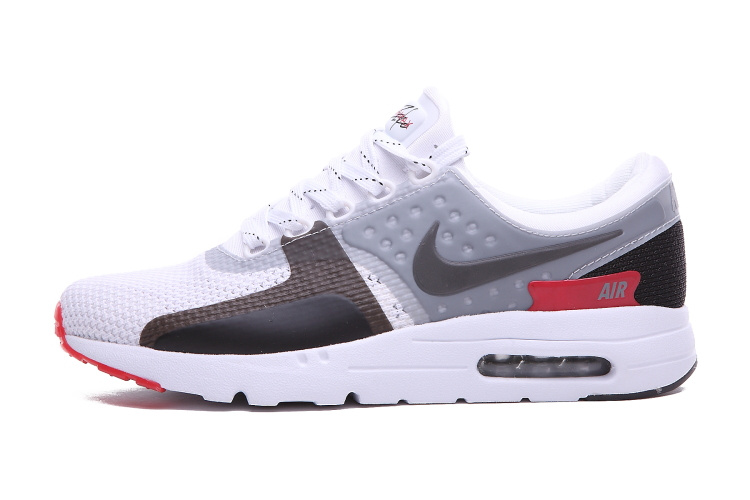nike: (409, 222, 626, 297)
